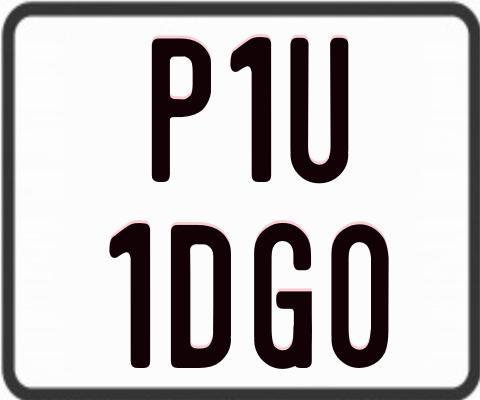0: (328, 221, 386, 369)
1: (107, 220, 153, 370), (229, 37, 275, 184)
D: (169, 224, 233, 370)
G: (252, 223, 314, 374)
P: (151, 35, 210, 183)
U: (290, 37, 349, 187)
